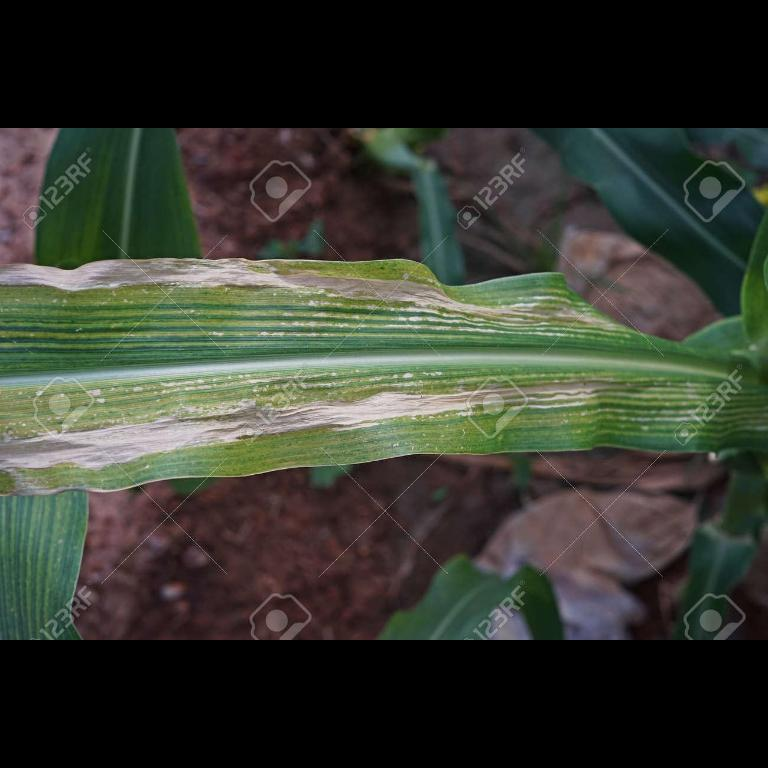blight: (0, 263, 268, 311), (1, 420, 206, 478)
